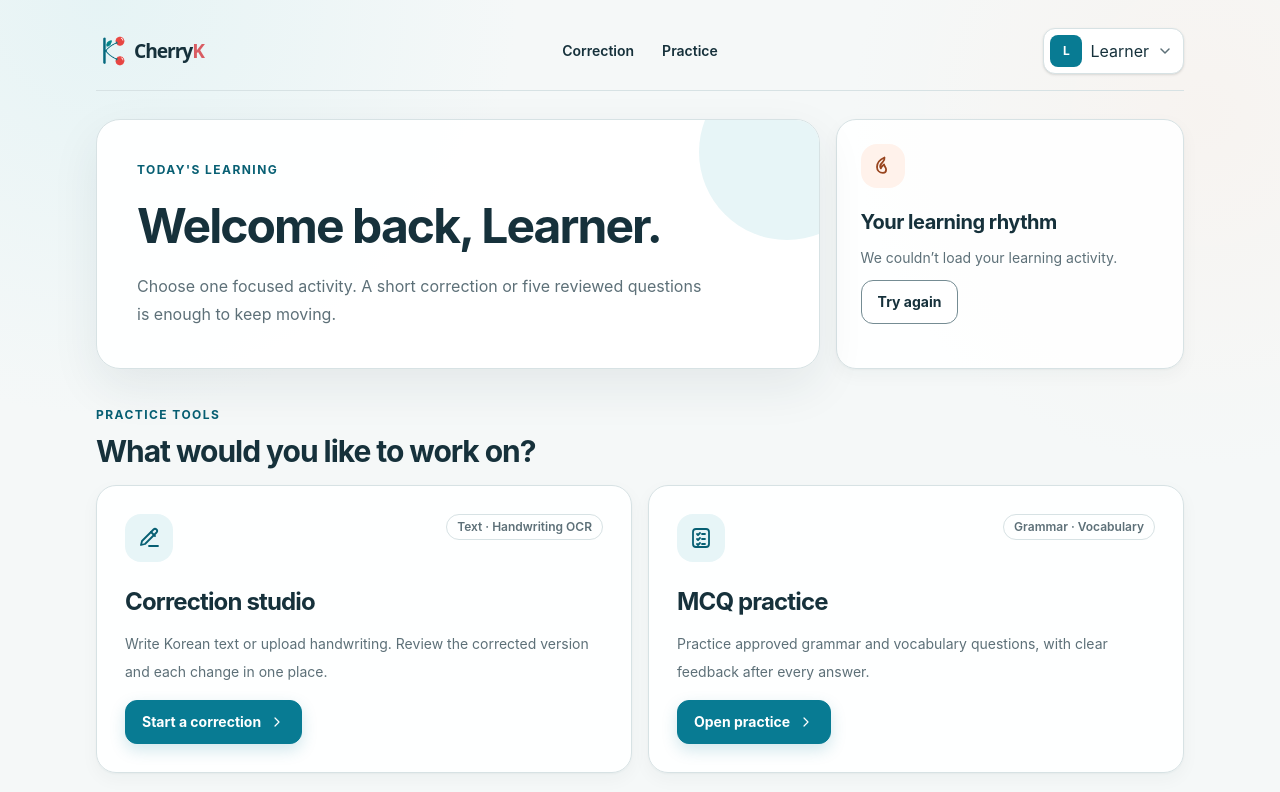
Test: home learning rhythm › offers retry after an error without displaying invented zero activity
Expected: the message "We couldn’t load your learning activity." is shown, [861,248,1159,268]
Expected: the text "days in a row" is not shown
Click the button "Try again" at (910, 302), box [861,280,958,324]
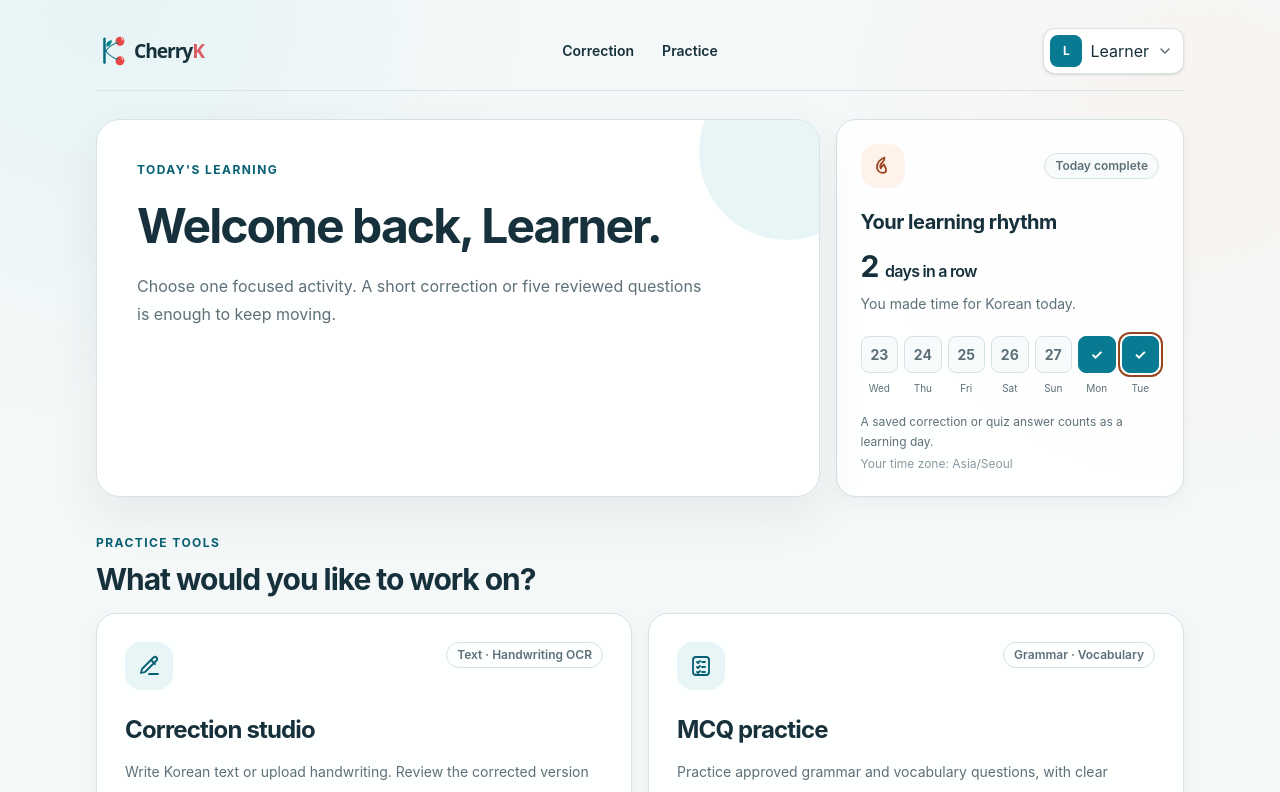
Result: the text "Today complete" is shown at [1044,153,1159,179]
